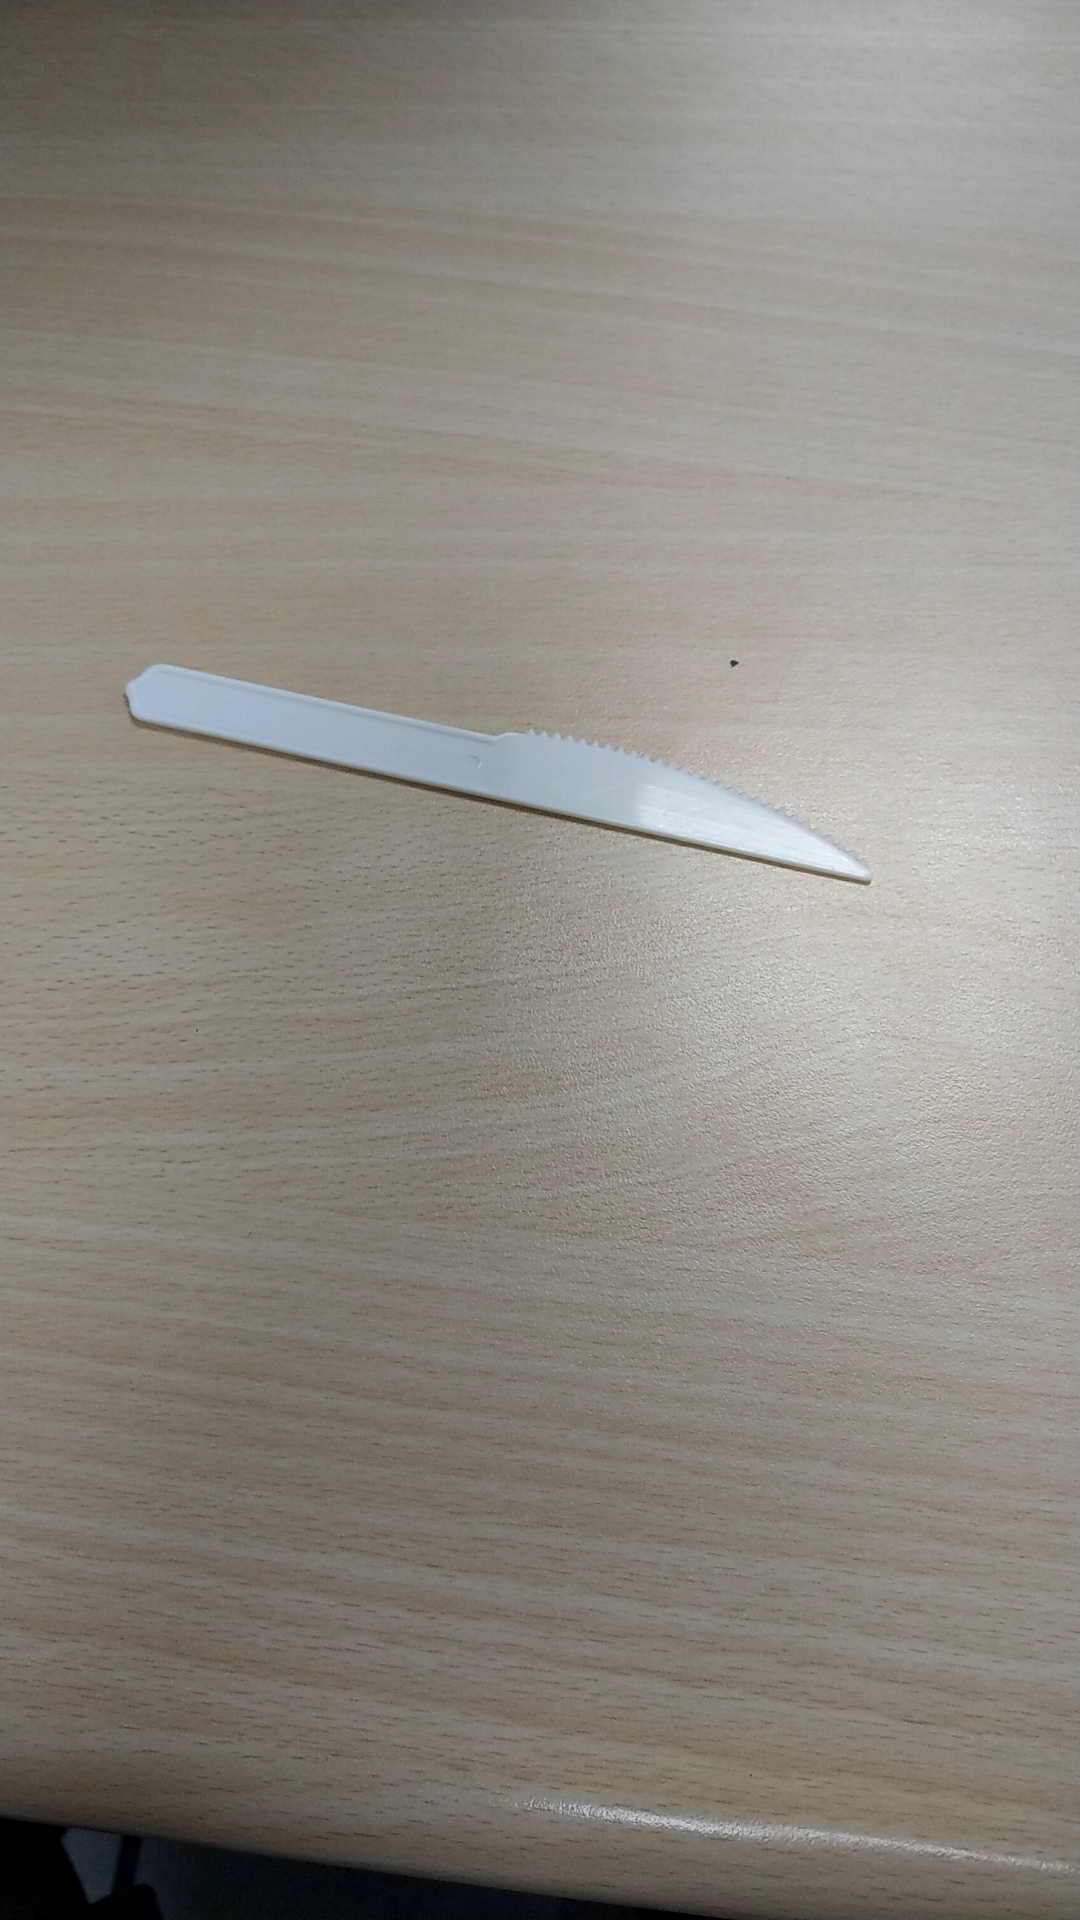knife: (95, 589, 913, 907)
